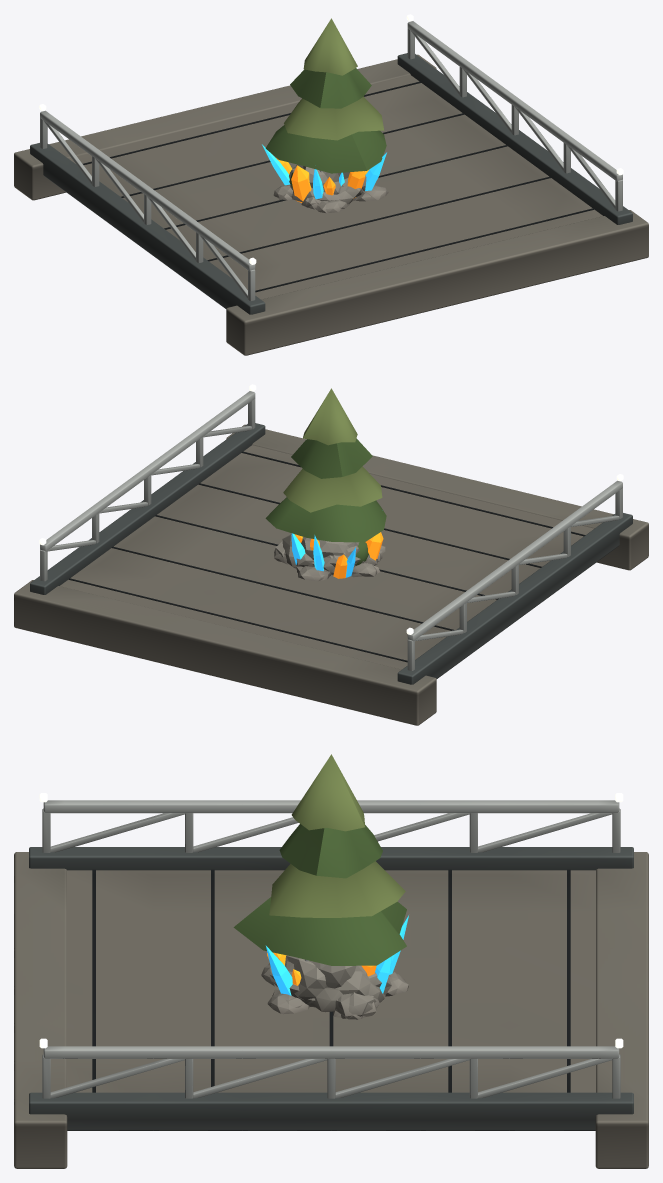
File: environment.glb
3 renders of one model, top to bottom at view 1: azimuth 30°, elevation 25°; view 2: azimuth 150°, elevation 25°; view 3: azimuth 270°, elevation 25°, orthographic. The views are drawn at different scales.
Visible parts, largest first — view 1: Deck, Girders, Truss, Crown, Crown.001, Seams, Crystal, Crystal.001, Rock.003, Rock.001; view 2: Deck, Girders, Truss, Crown, Crown.001, Seams, Crystal.001, Rock.001, Rock, Crystal, Rock.003; view 3: Deck, Girders, Truss, Crown, Crown.001, Seams, Rock, Rock.001, Crystal.001, Rock.003, Rock.002.
Boxes of the visible parts, x1,y1,x2,y2 form: Deck: (14,54,648,355); Girders: (30,53,632,314); Truss: (40,21,622,300); Crown: (265,68,386,173); Crown.001: (284,18,384,140); Seams: (83,81,594,292); Crystal: (276,158,369,202); Crystal.001: (262,144,386,199); Rock.003: (273,184,388,213); Rock.001: (289,164,366,204); Deck: (14,424,648,725); Girders: (30,423,632,684); Truss: (40,391,622,670); Crown: (265,438,386,542); Crown.001: (283,388,382,512); Seams: (68,451,585,662); Crystal.001: (291,533,355,577); Rock.001: (275,537,366,564); Rock: (274,534,381,575); Crystal: (294,532,383,578); Rock.003: (274,545,385,580); Deck: (14,852,648,1168); Girders: (29,847,633,1130); Truss: (42,800,620,1098); Crown: (233,824,406,965); Crown.001: (269,754,405,917); Seams: (92,869,570,1092); Rock: (285,955,385,1018); Rock.001: (286,961,379,1018); Crystal.001: (265,915,408,995); Rock.003: (263,963,405,1018); Rock.002: (269,972,391,1016).
Size of the model in its own units: 10.8 by 5.21 by 10.7.
